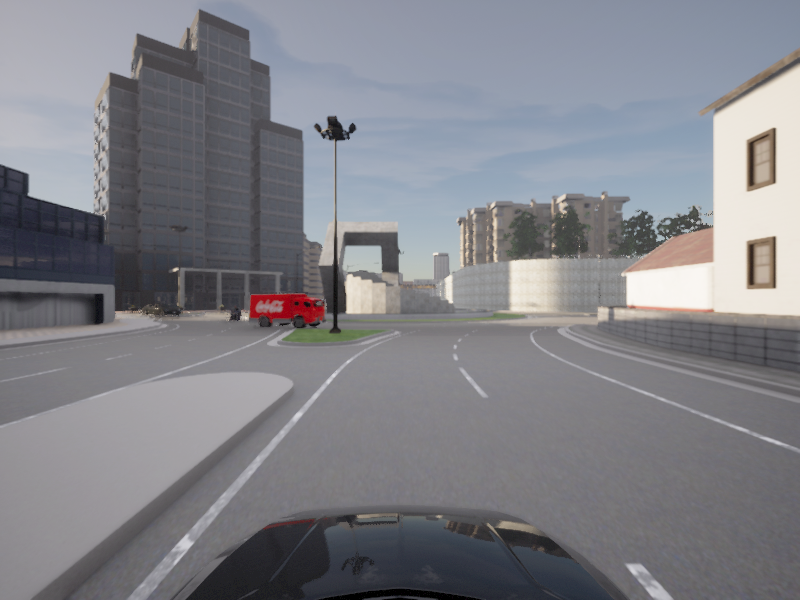vehicle: (246, 293, 329, 329), (225, 305, 244, 322)
